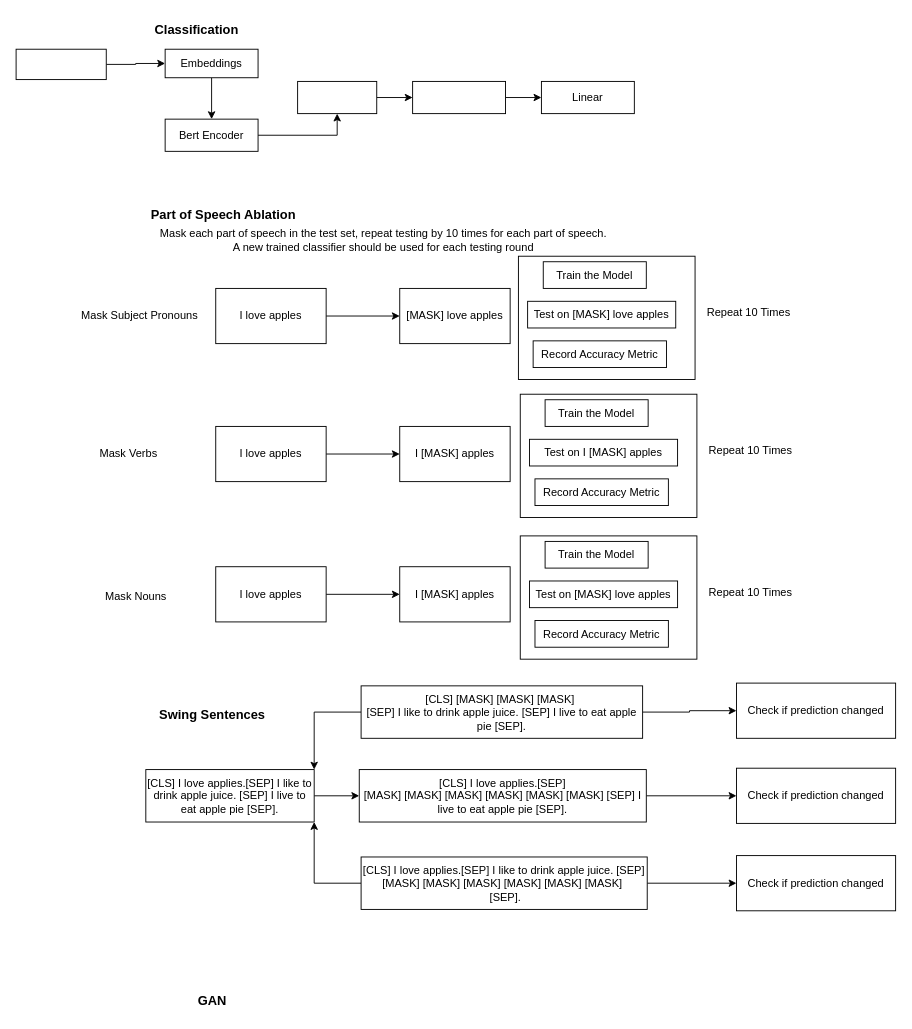
Image size: 912x1029. Some labels were removed from this diagram. Each missing label, with the centre of its shape:
"Attention" belongs at point (459, 97).
"Dataset" belongs at point (60, 64).
"LSTM" belongs at point (337, 97).
